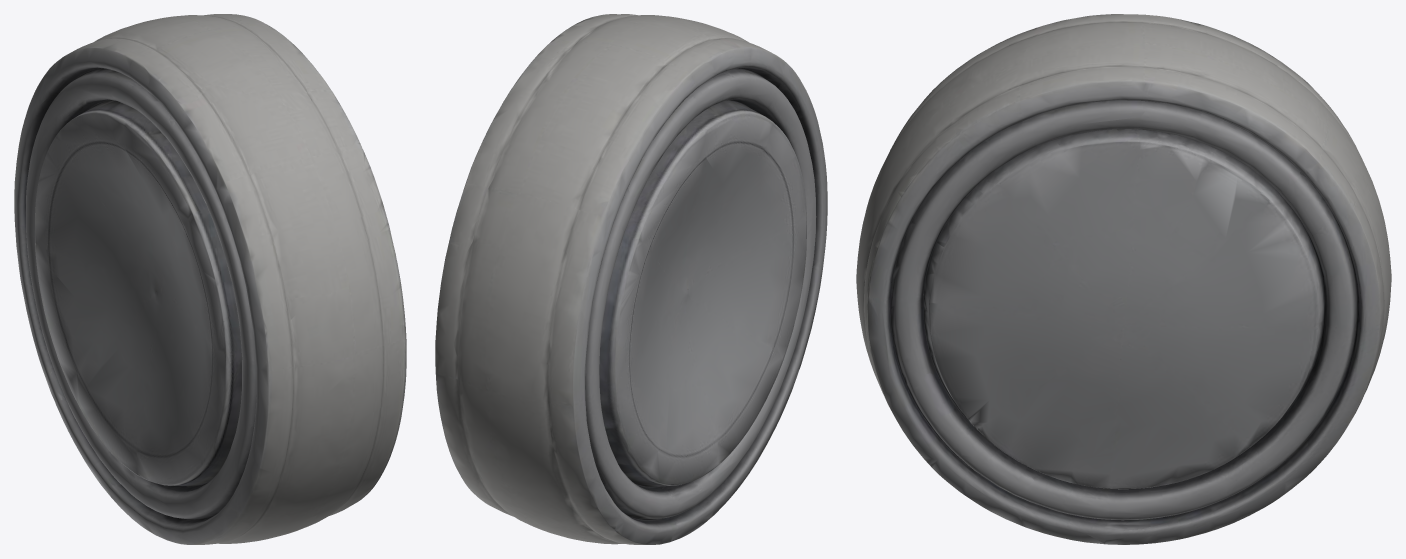
Rendered from btn-library.glb.
The picture shows the model from 3 angles, left to right: view 1: azimuth 30°, elevation 25°; view 2: azimuth 150°, elevation 25°; view 3: azimuth 270°, elevation 25°; orthographic projection.
Visible parts, largest first — view 1: tripo_node_3e0ea3ff-d025-483f-a2bf-5e83a962bc47; view 2: tripo_node_3e0ea3ff-d025-483f-a2bf-5e83a962bc47; view 3: tripo_node_3e0ea3ff-d025-483f-a2bf-5e83a962bc47.
Part boxes in pixels (x1,y1,x2,y2): tripo_node_3e0ea3ff-d025-483f-a2bf-5e83a962bc47: [14, 14, 406, 544]; tripo_node_3e0ea3ff-d025-483f-a2bf-5e83a962bc47: [435, 14, 827, 544]; tripo_node_3e0ea3ff-d025-483f-a2bf-5e83a962bc47: [856, 14, 1391, 544].
Bounding box in the file's own units: 0.3734 × 0.9999 × 1.
1 material, 1 textured.
